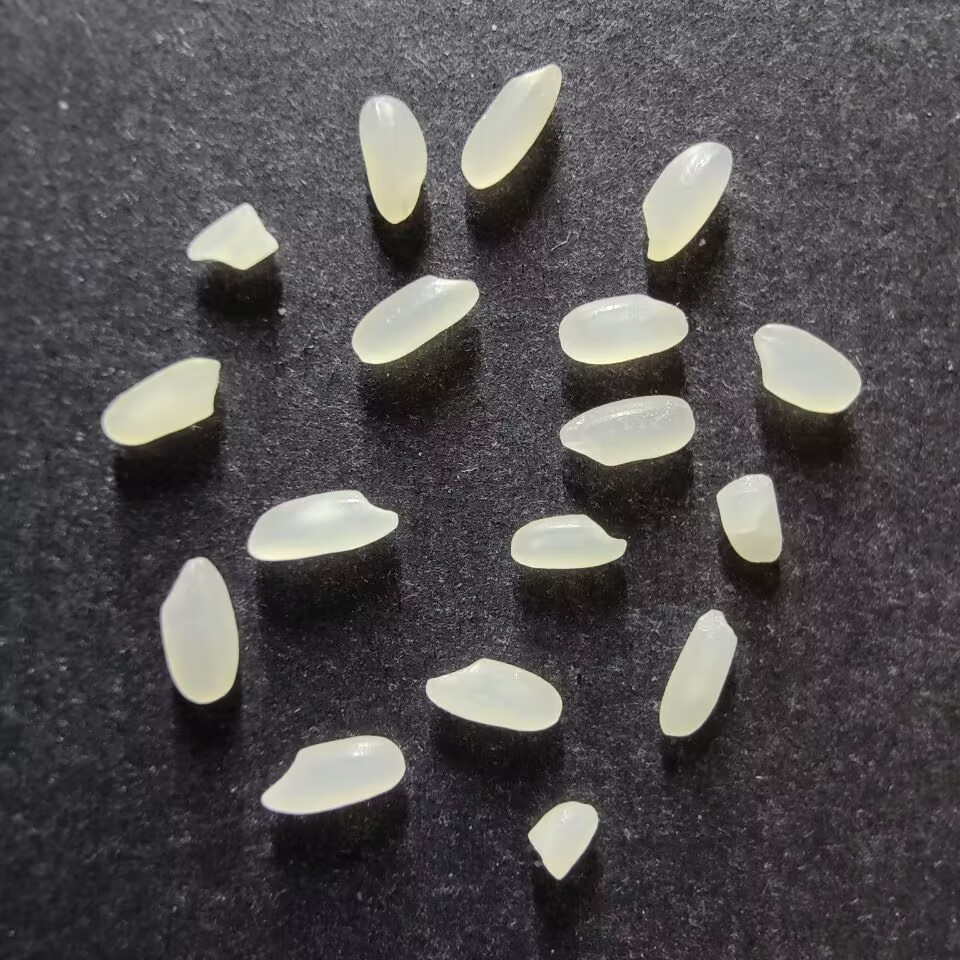broken: (185, 202, 279, 272), (714, 473, 783, 564), (526, 800, 599, 881)
rice: (460, 62, 564, 189), (259, 734, 406, 815), (159, 556, 239, 704), (350, 274, 479, 365), (641, 141, 733, 263), (246, 489, 399, 561), (101, 355, 220, 446), (423, 656, 563, 732), (658, 608, 738, 737), (752, 322, 863, 414), (558, 394, 695, 467), (557, 293, 689, 365), (357, 95, 427, 224), (508, 513, 627, 570)
